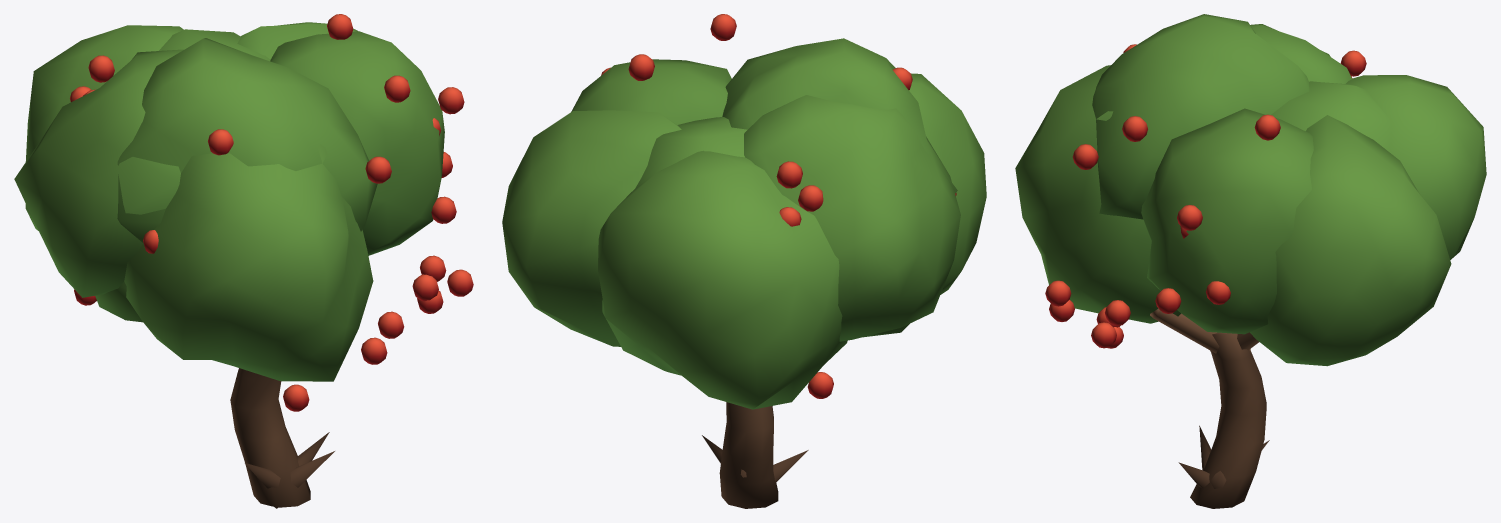
Rendered from cc_arvore_macieira.glb.
The picture shows the model from 3 angles, left to right: view 1: azimuth 30°, elevation 25°; view 2: azimuth 150°, elevation 25°; view 3: azimuth 270°, elevation 25°; orthographic projection. The views are drawn at different scales.
Parts seen in each view (by area): view 1: cc_arvore_macieira_leaf_copa, cc_arvore_macieira_leaf_fruta, cc_arvore_macieira_tree_casca; view 2: cc_arvore_macieira_leaf_copa, cc_arvore_macieira_tree_casca, cc_arvore_macieira_leaf_fruta; view 3: cc_arvore_macieira_leaf_copa, cc_arvore_macieira_tree_casca, cc_arvore_macieira_leaf_fruta.
Boxes of the visible parts, left/top/right/bottom form: cc_arvore_macieira_leaf_copa: left=14, top=22, right=444, bottom=381; cc_arvore_macieira_leaf_fruta: left=70, top=14, right=473, bottom=411; cc_arvore_macieira_tree_casca: left=230, top=368, right=334, bottom=508; cc_arvore_macieira_leaf_copa: left=502, top=38, right=986, bottom=409; cc_arvore_macieira_tree_casca: left=702, top=402, right=808, bottom=508; cc_arvore_macieira_leaf_fruta: left=601, top=14, right=956, bottom=398; cc_arvore_macieira_leaf_copa: left=1015, top=14, right=1486, bottom=366; cc_arvore_macieira_tree_casca: left=1150, top=308, right=1269, bottom=508; cc_arvore_macieira_leaf_fruta: left=1045, top=44, right=1366, bottom=348.
Bounding box in the file's own units: 4.52 × 5.32 × 5.05.
